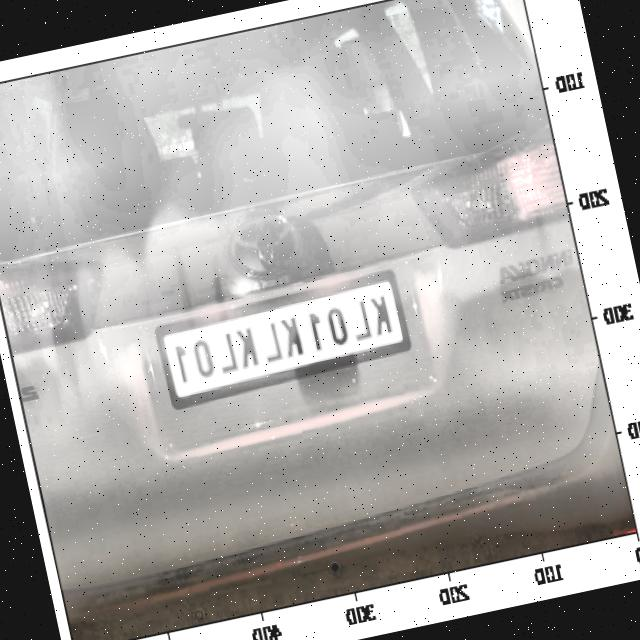license_plate: (162, 277, 408, 398)
